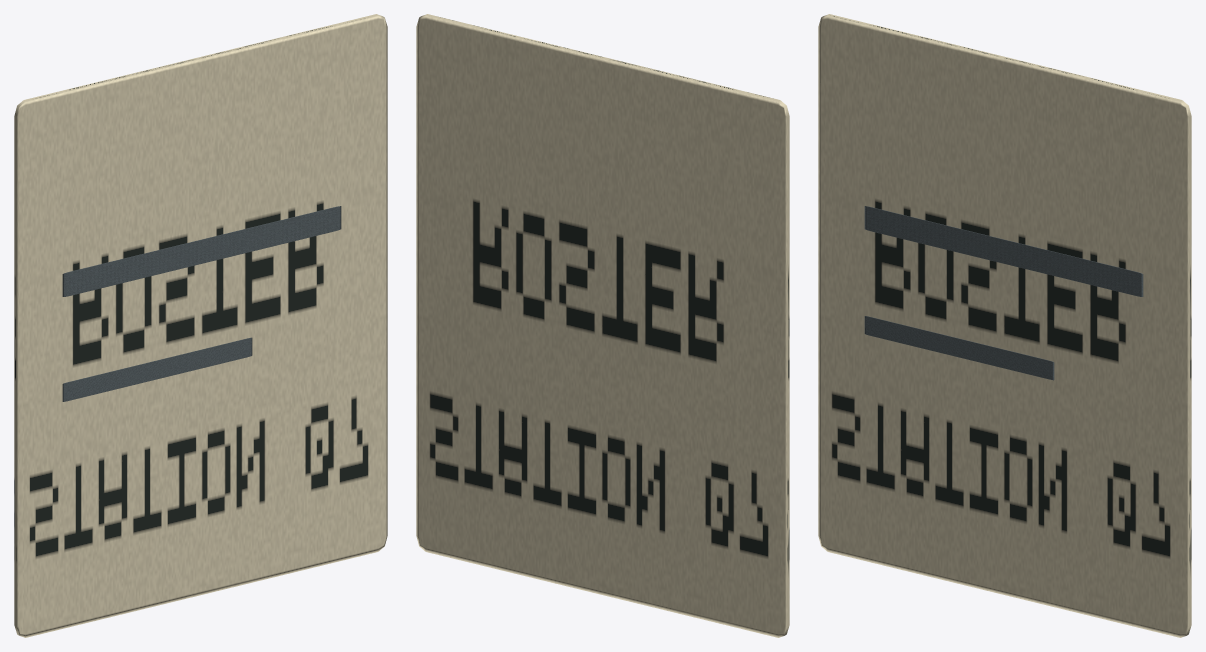
Rendered from roster.glb.
3 renders of one model, left to right at view 1: azimuth 30°, elevation 25°; view 2: azimuth 150°, elevation 25°; view 3: azimuth 330°, elevation 25°, orthographic.
Visible parts, largest first — view 1: board, stripe, line; view 2: board; view 3: board, stripe, line.
Part boxes in pixels (bbox=[...]): board: bbox=[14, 14, 387, 637]; stripe: bbox=[62, 206, 341, 296]; line: bbox=[62, 337, 252, 401]; board: bbox=[416, 14, 789, 637]; board: bbox=[818, 14, 1191, 637]; stripe: bbox=[864, 206, 1143, 296]; line: bbox=[864, 316, 1054, 380].
Bounding box in the file's own units: 0.21 × 0.29 × 0.00204.
2 materials, 2 textured.
